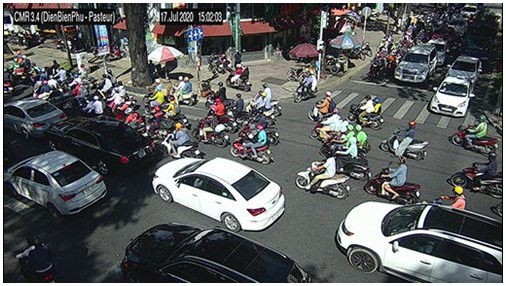xe_hoi: (335, 201, 502, 283), (121, 222, 312, 283), (151, 156, 285, 232), (5, 150, 108, 217), (45, 115, 151, 175), (3, 100, 66, 138), (429, 74, 475, 116), (394, 45, 437, 82), (445, 56, 481, 83), (428, 38, 448, 64), (449, 18, 469, 35), (461, 4, 478, 19)
xe_may: (363, 158, 421, 204), (296, 150, 349, 199), (449, 151, 503, 197), (14, 236, 56, 283), (451, 115, 499, 156), (382, 119, 428, 161), (330, 136, 368, 182), (232, 124, 274, 165), (161, 122, 200, 160), (345, 94, 384, 130), (191, 110, 229, 146), (309, 108, 348, 136), (249, 109, 279, 143), (308, 90, 339, 120), (430, 187, 466, 212), (212, 100, 236, 132), (257, 82, 281, 114), (294, 69, 318, 101), (164, 97, 188, 126), (174, 75, 197, 105), (227, 64, 252, 91), (206, 80, 229, 107), (126, 107, 147, 136), (145, 87, 165, 113), (232, 94, 248, 123), (34, 81, 50, 101), (369, 55, 380, 80), (386, 54, 395, 77)
